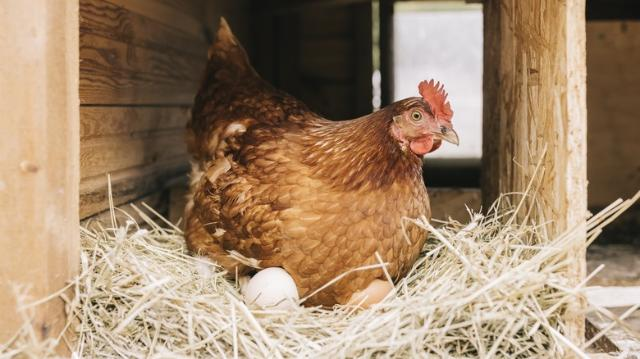Chicken: (181, 16, 458, 310)
